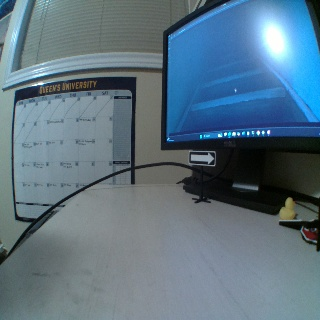sign_oneway_right: (189, 151, 216, 166)
